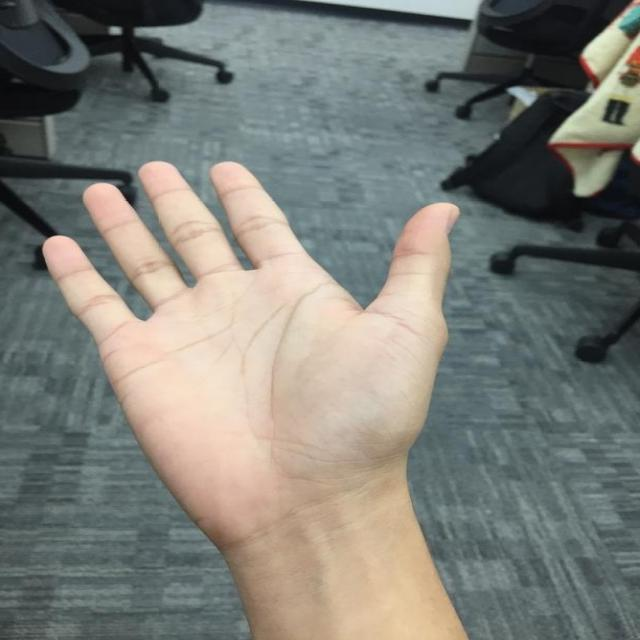hand: (39, 158, 462, 542)
